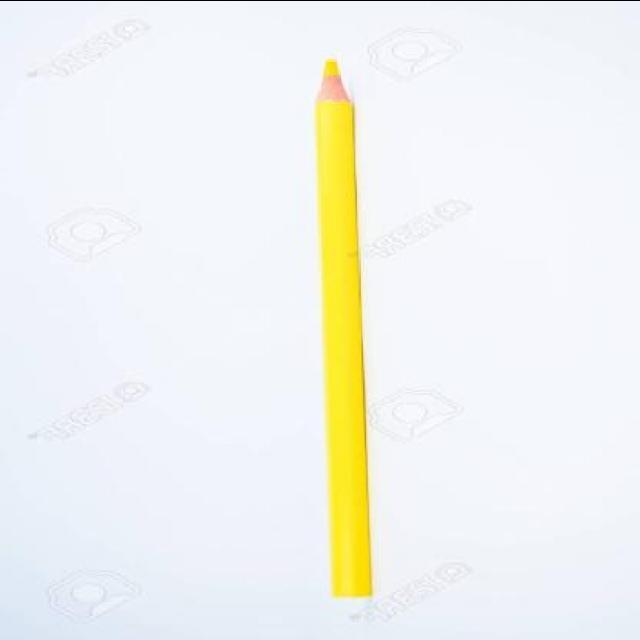pencil: (308, 54, 364, 158)
